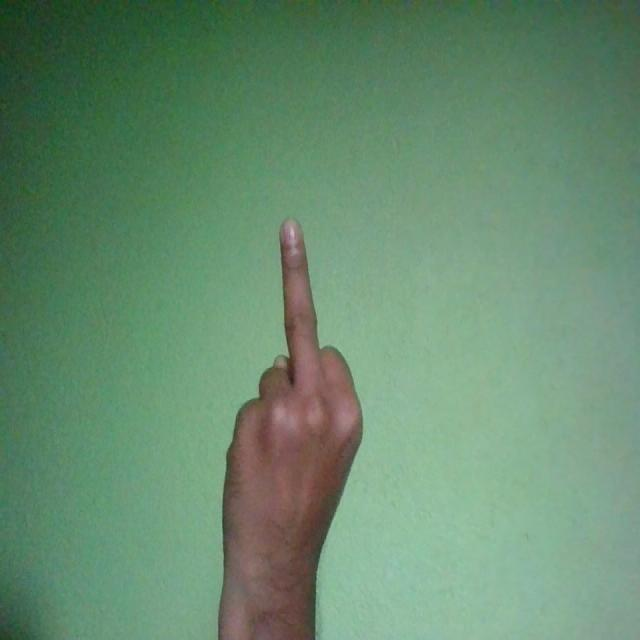Middle Finger: (222, 216, 365, 626)
